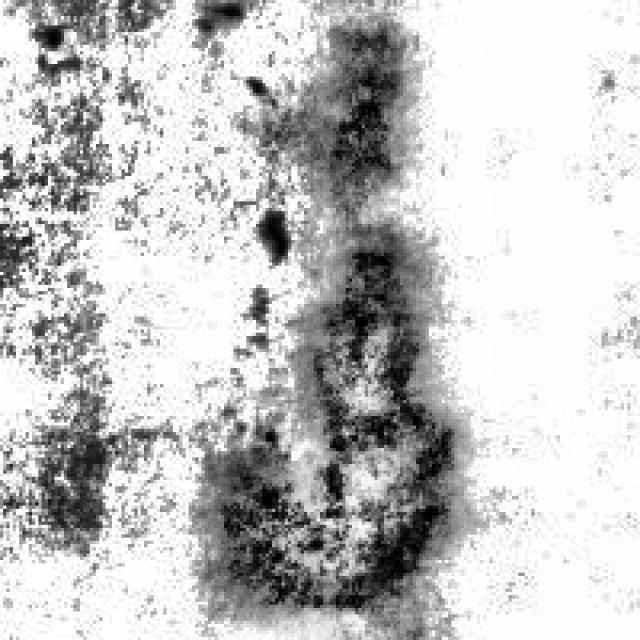Scratches: (205, 218, 458, 614), (284, 19, 410, 189)
